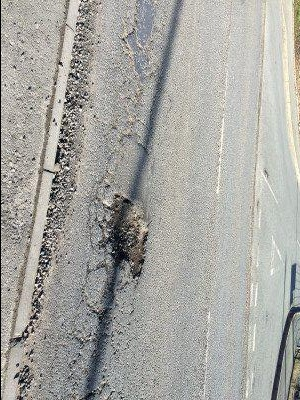pothole: (99, 189, 150, 283)
